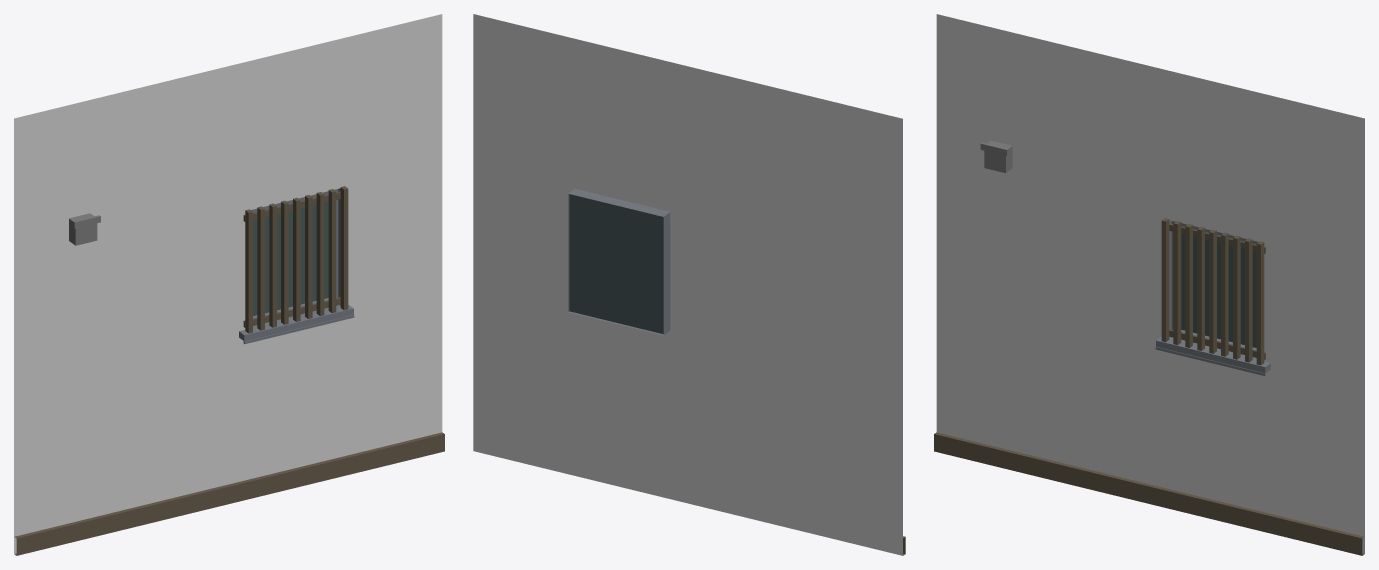
The model's file is top-w2_close.fbx.
3 views of the same model, side by side, from view 1: azimuth 30°, elevation 25°; view 2: azimuth 150°, elevation 25°; view 3: azimuth 330°, elevation 25° (orthographic).
Parts seen in each view (by area): view 1: a2000/0/top-w2_close; view 2: a2000/0/top-w2_close; view 3: a2000/0/top-w2_close.
Boxes of the visible parts, bbox=[...] form: a2000/0/top-w2_close: bbox=[14, 14, 444, 555]; a2000/0/top-w2_close: bbox=[473, 14, 905, 555]; a2000/0/top-w2_close: bbox=[934, 14, 1364, 555].
Bounding box in the file's own units: 3.6 × 3.5 × 0.22.
